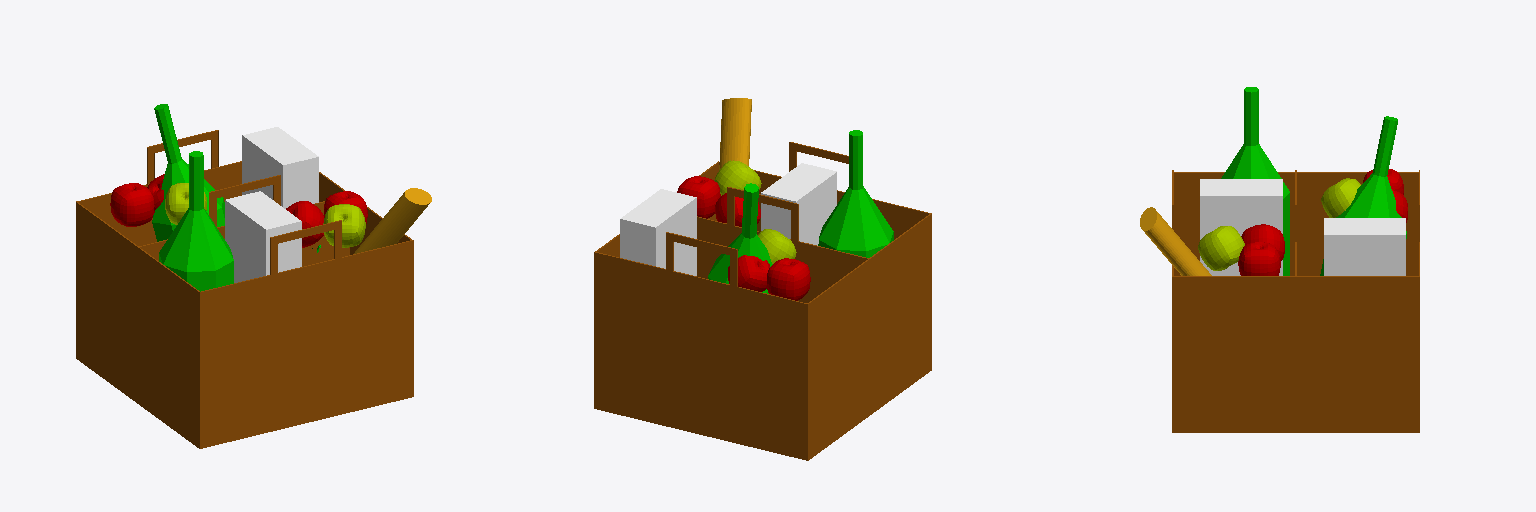
Rendered from sac3_60.obj.
The picture shows the model from 3 angles: view 1: azimuth 30°, elevation 25°; view 2: azimuth 150°, elevation 25°; view 3: azimuth 270°, elevation 25°; orthographic projection.
Parts seen in each view (by area): view 1: Cube.001, Cube.004, ungrouped, Cube_Cube.003, Cube_Cube.000, ungrouped.001, Cylinder, Cube.003, Cube.001_Cube.002, Pomme_Cube.001, Cube.001_Cube.000, Cube.002; view 2: Cube.004, Cube.001, Cube_Cube.000, ungrouped, Cube_Cube.003, Cylinder, ungrouped.001, Cube.003, Cube.002, Pomme_Cube.000, Cube.001_Cube.002, Cube.001_Cube.000 (+1 smaller); view 3: Cube.004, Cube.001, Cube_Cube.000, Cube_Cube.003, ungrouped, ungrouped.001, Cylinder, Cube.001_Cube.002, Cube.002, Cube.001_Cube.000, Pomme_Cube.001.
Part boxes in pixels (x1,y1,x2,y2): Cube.001: (137, 175, 413, 448); Cube.004: (76, 130, 349, 402); ungrouped: (159, 151, 233, 291); Cube_Cube.003: (225, 191, 301, 282); Cube_Cube.000: (242, 127, 318, 208); ungrouped.001: (152, 104, 224, 241); Cylinder: (354, 188, 431, 253); Cube.003: (110, 183, 154, 226); Cube.001_Cube.002: (323, 204, 365, 247); Pomme_Cube.001: (286, 201, 323, 247); Cube.001_Cube.000: (165, 183, 206, 224); Cube.002: (324, 191, 367, 223); Cube.004: (594, 194, 869, 460); Cube.001: (697, 142, 931, 414); Cube_Cube.000: (620, 189, 696, 275); ungrouped: (818, 130, 893, 257); Cube_Cube.003: (761, 163, 836, 245); Cylinder: (719, 98, 751, 169); ungrouped.001: (708, 183, 772, 293); Cube.003: (767, 258, 810, 300); Cube.002: (677, 176, 720, 218); Pomme_Cube.000: (728, 255, 769, 291); Cube.001_Cube.002: (714, 160, 761, 195); Cube.001_Cube.000: (758, 229, 796, 263); Cube.004: (1295, 170, 1419, 432); Cube.001: (1172, 170, 1296, 432); Cube_Cube.000: (1324, 218, 1405, 275); Cube_Cube.003: (1200, 179, 1282, 275); ungrouped: (1221, 87, 1289, 275); ungrouped.001: (1320, 116, 1406, 275); Cylinder: (1140, 207, 1211, 275); Cube.001_Cube.002: (1198, 226, 1244, 270); Cube.002: (1238, 242, 1280, 275); Cube.001_Cube.000: (1321, 178, 1360, 217); Pomme_Cube.001: (1241, 224, 1284, 260).
Bounding box in the file's own units: 30.94 × 35 × 34.11.